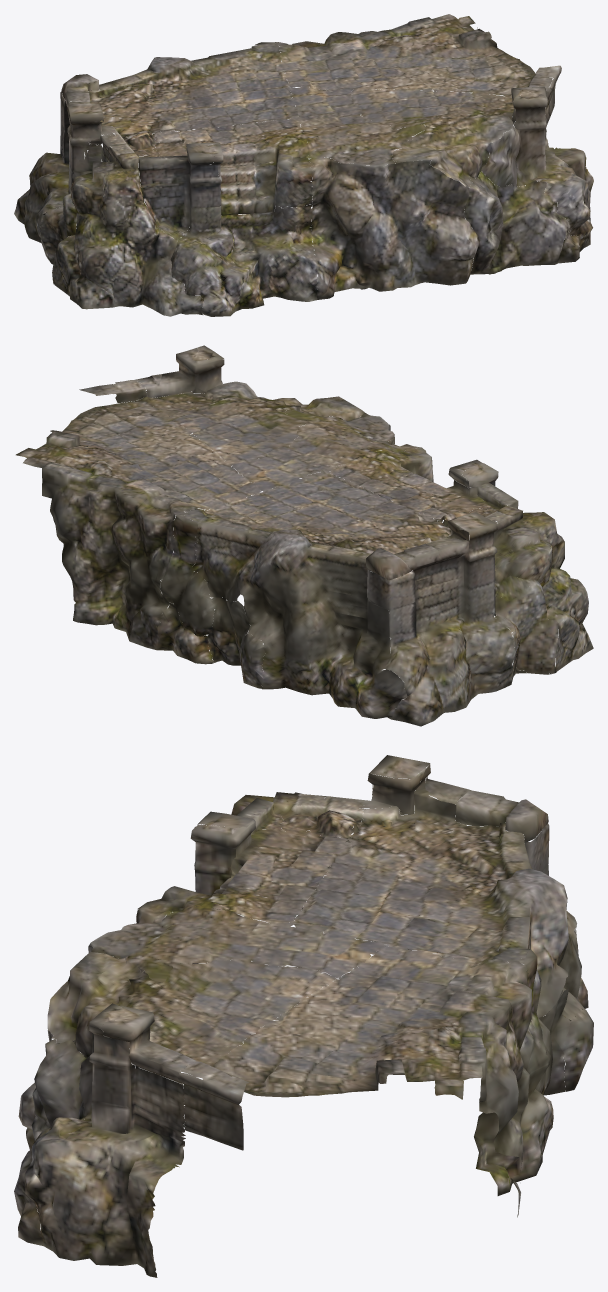
Rendered from BroadRockPlatform.glb.
The picture shows the model from 3 angles, top to bottom: view 1: azimuth 30°, elevation 25°; view 2: azimuth 150°, elevation 25°; view 3: azimuth 270°, elevation 25°; orthographic projection. The views are drawn at different scales.
Parts seen in each view (by area): view 1: Eldoria_MultiPiece_Group_07; view 2: Eldoria_MultiPiece_Group_07; view 3: Eldoria_MultiPiece_Group_07.
Part boxes in pixels (x1=…): Eldoria_MultiPiece_Group_07: x1=14, y1=14, x2=593, y2=316; Eldoria_MultiPiece_Group_07: x1=16, y1=345, x2=593, y2=726; Eldoria_MultiPiece_Group_07: x1=14, y1=755, x2=593, y2=1277.
Bounding box in the file's own units: 0.3944 × 0.116 × 0.2808.
Materials: 1 (1 with a texture image).
